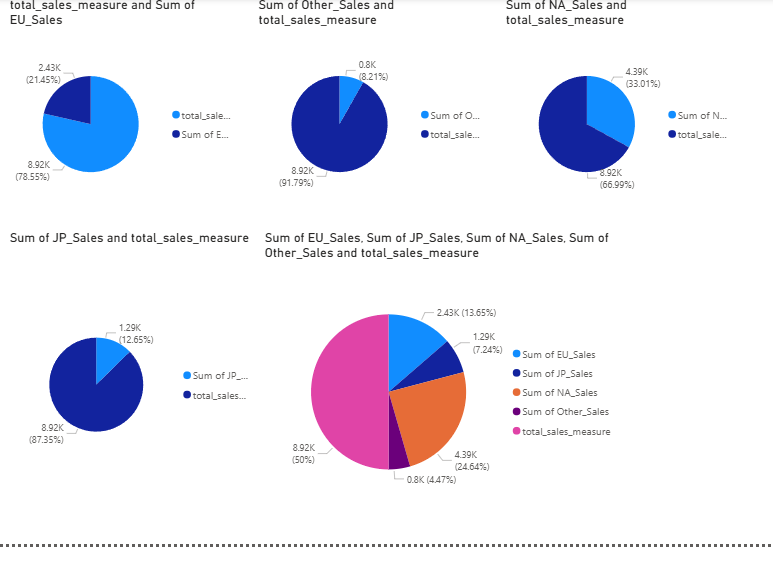

What the dashboard file says about the page in this screenshot:
{"tool":"powerbi","page":{"name":"Page 3","canvas":[1280,720],"ordinal":2},"visuals":[{"type":"pieChart","fields":{"Y":["sales.total_sales_measure","Sum(sales.EU_Sales)"]},"box":[10.4,0,314.9,296.3],"z":0},{"type":"pieChart","fields":{"Y":["Sum(sales.JP_Sales)","sales.total_sales_measure"]},"box":[10.4,306.6,335.7,387.5],"z":1000},{"type":"pieChart","fields":{"Y":["Sum(sales.Other_Sales)","sales.total_sales_measure"]},"box":[338.5,0,315,296],"z":2000},{"type":"pieChart","fields":{"Y":["Sum(sales.EU_Sales)","Sum(sales.JP_Sales)","Sum(sales.NA_Sales)","Sum(sales.Other_Sales)","sales.total_sales_measure"]},"box":[346,306.6,474.5,387.5],"z":3000},{"type":"pieChart","fields":{"Y":["Sum(sales.NA_Sales)","sales.total_sales_measure"]},"box":[664,0,315,296],"z":4000}]}

Visuals, with their boxes on the page's 1280x720 design canvas (x1, y1, x2, y2). These are canvas units, not pixel positions in the 773x566 screenshot, which may show the page scaled, cropped or inside an application window:
pieChart - sales.total_sales_measure x Sum(sales.EU_Sales): 10/0/325/296
pieChart - Sum(sales.JP_Sales) x sales.total_sales_measure: 10/307/346/694
pieChart - Sum(sales.Other_Sales) x sales.total_sales_measure: 338/0/654/296
pieChart - Sum(sales.EU_Sales) x Sum(sales.JP_Sales): 346/307/820/694
pieChart - Sum(sales.NA_Sales) x sales.total_sales_measure: 664/0/979/296
